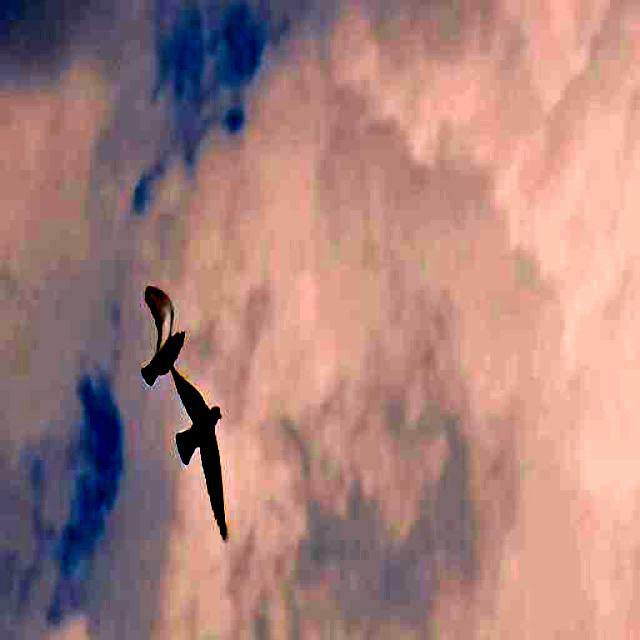airplane: (164, 345, 242, 548), (126, 269, 190, 388)
